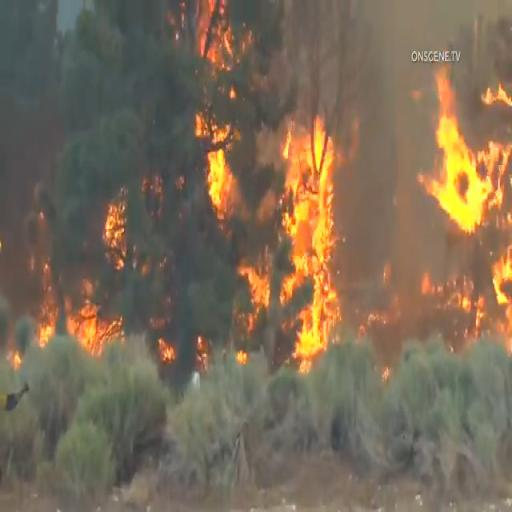fire: (265, 125, 344, 350), (427, 108, 512, 287), (202, 136, 238, 205), (68, 300, 119, 348)
